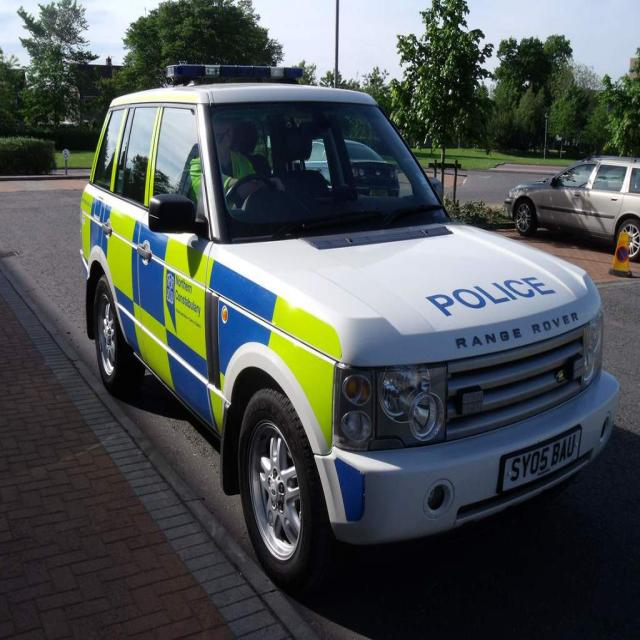car: (75, 60, 620, 589)
